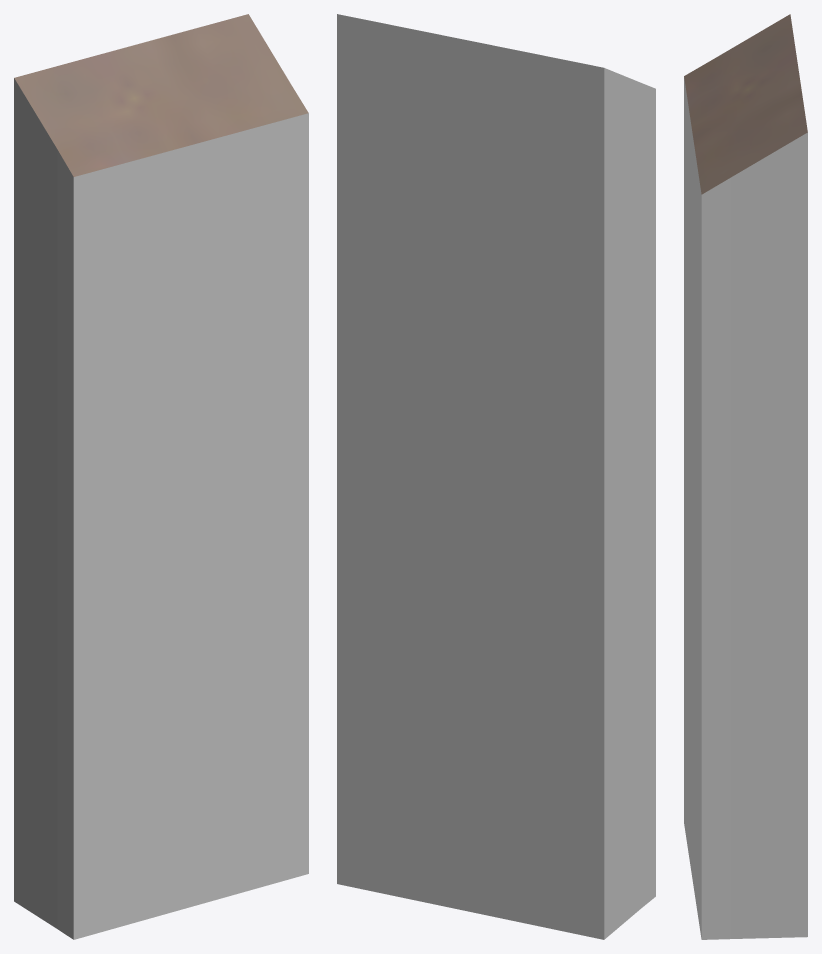
File: DEBW_0010007TI0c.gltf
3 renders of one model, left to right at view 1: azimuth 30°, elevation 25°; view 2: azimuth 150°, elevation 25°; view 3: azimuth 270°, elevation 25°, orthographic. The views are drawn at different scales.
Visible parts, largest first — view 1: Z_UP; view 2: Z_UP; view 3: Z_UP.
Boxes of the visible parts, x1,y1,x2,y2 form: Z_UP: (14, 14, 308, 939); Z_UP: (337, 14, 655, 939); Z_UP: (684, 14, 807, 939).
Size of the model in its own units: 4.19 by 13.23 by 1.84.
2 materials, 1 textured.
